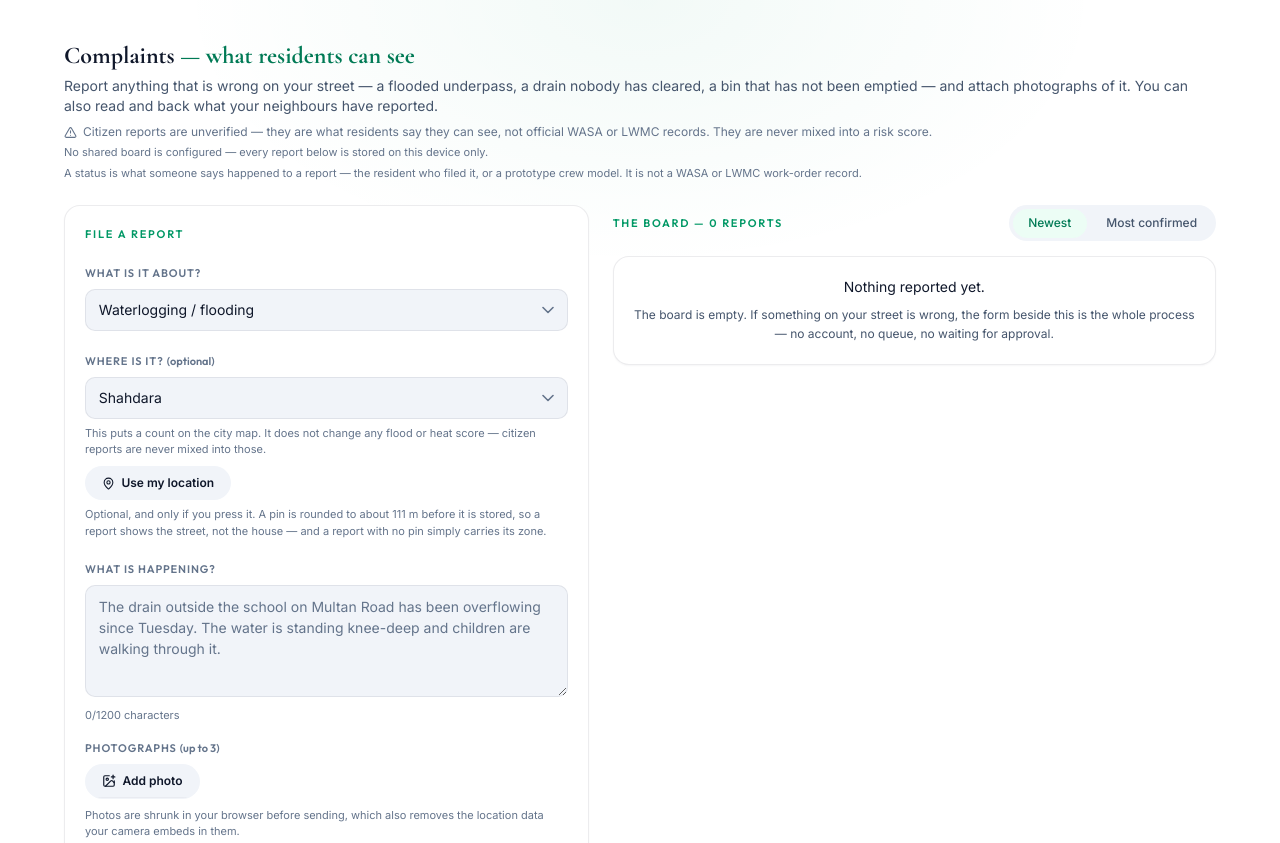
Scenario: ComplaintsView — the pin is opt-in, and never exact › still files the report when permission is refused
This screenshot has width=1280, height=843.
Click the button "Use my location" at (158, 483), box 85,466 -> 231,500
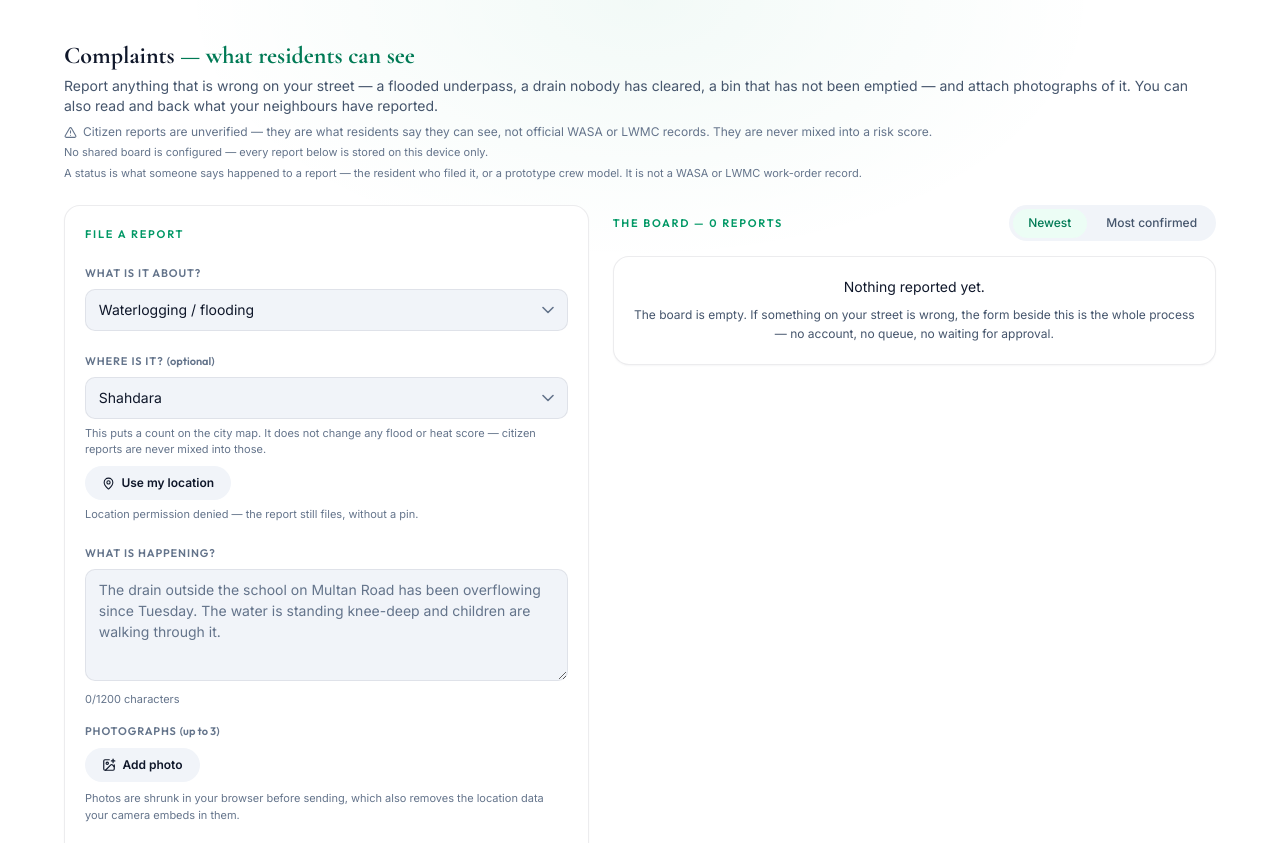
Expected: the message shows "permission denied", 85,507 -> 418,521
Replace the text in the text box labelled "What is happening?" with "The drain is blocked and overflowing." at (326, 625), box 85,569 -> 568,681
(page scrolled)
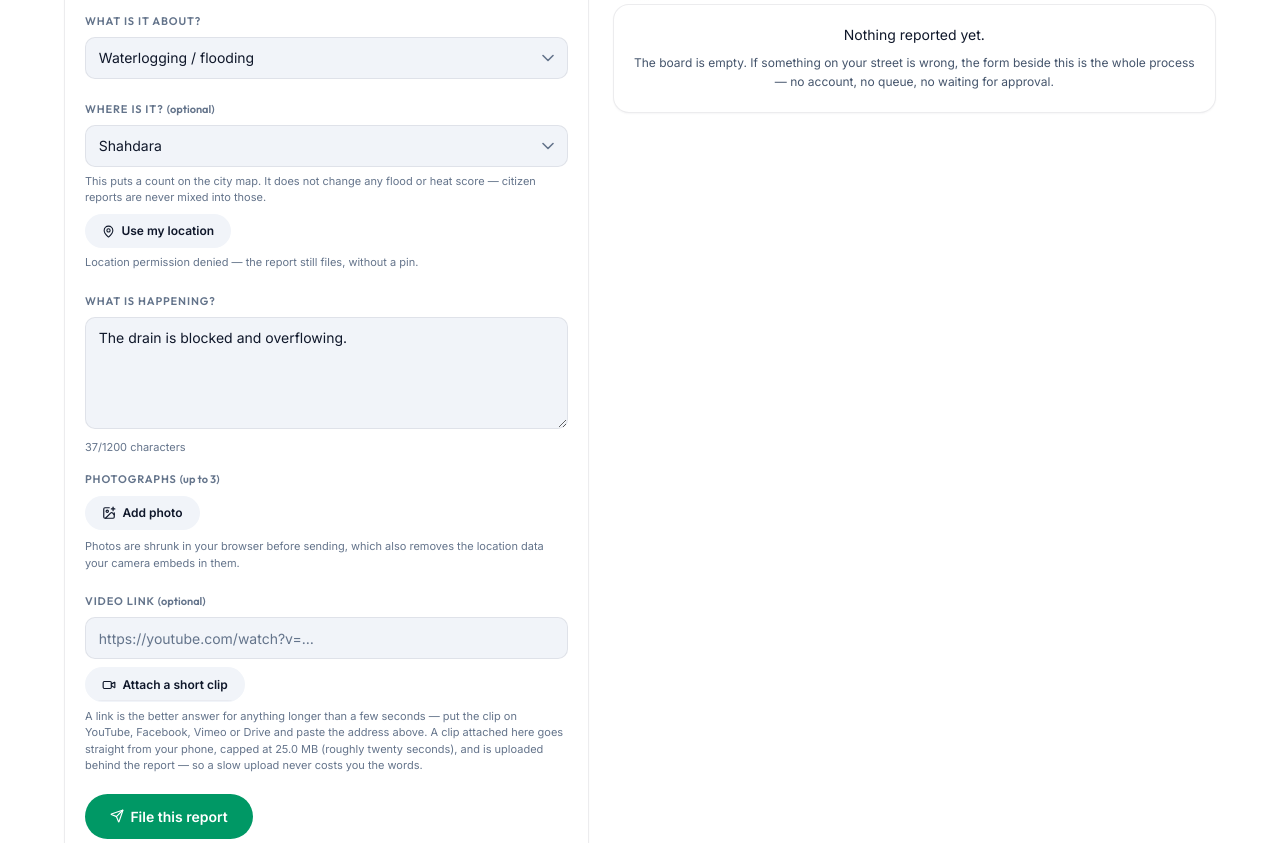
Click the button "File this report" at (169, 816), box 85,794 -> 253,839
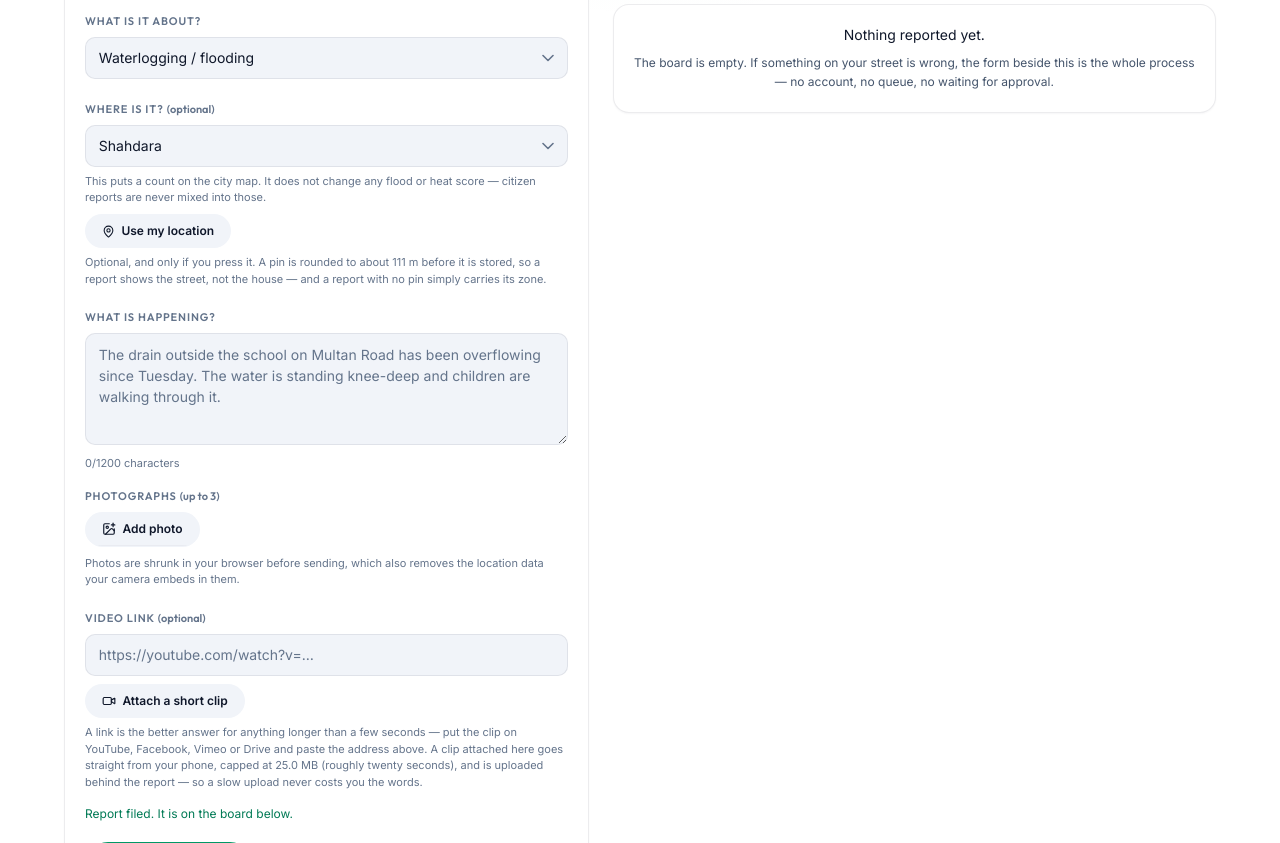
Expected: the text "Report filed. It is on the board below." is shown, 85,806 -> 293,821
